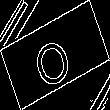O_NW: (32, 23, 78, 87)
